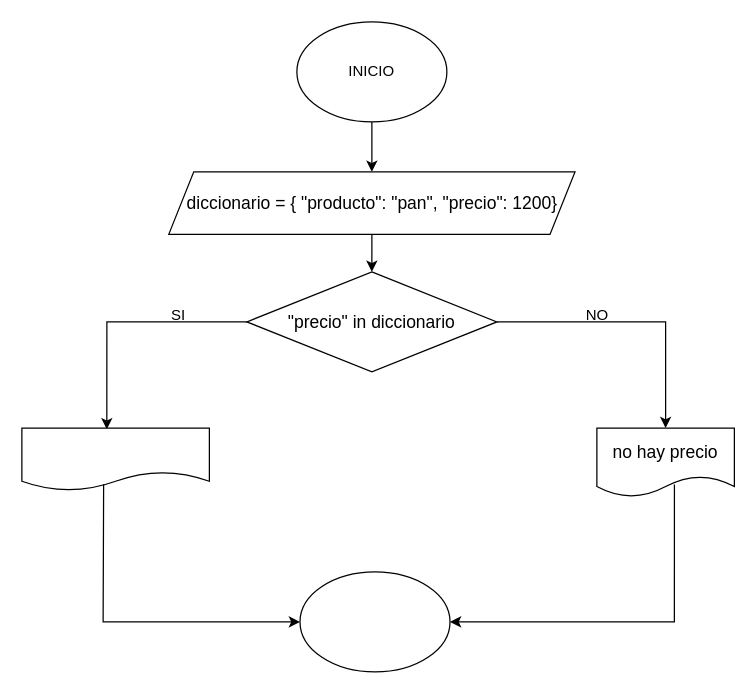
This 756x694 diagram has some shape labels left out. Each missing label, with the box of its shape:
diccionario["precio"]: (21, 427, 209, 491)
FIN: (299, 571, 450, 672)
